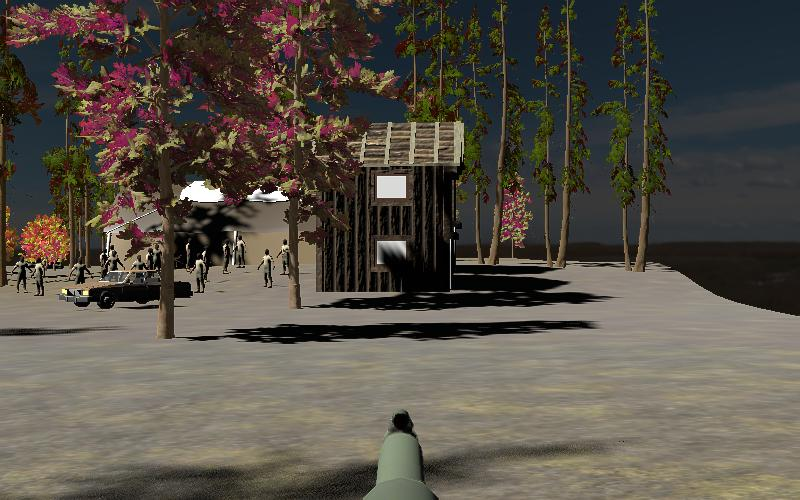House: (314, 120, 466, 293)
Human: (256, 245, 276, 290), (191, 249, 209, 294), (12, 256, 31, 294), (276, 238, 293, 277), (32, 257, 47, 297)
car: (58, 265, 194, 311)
